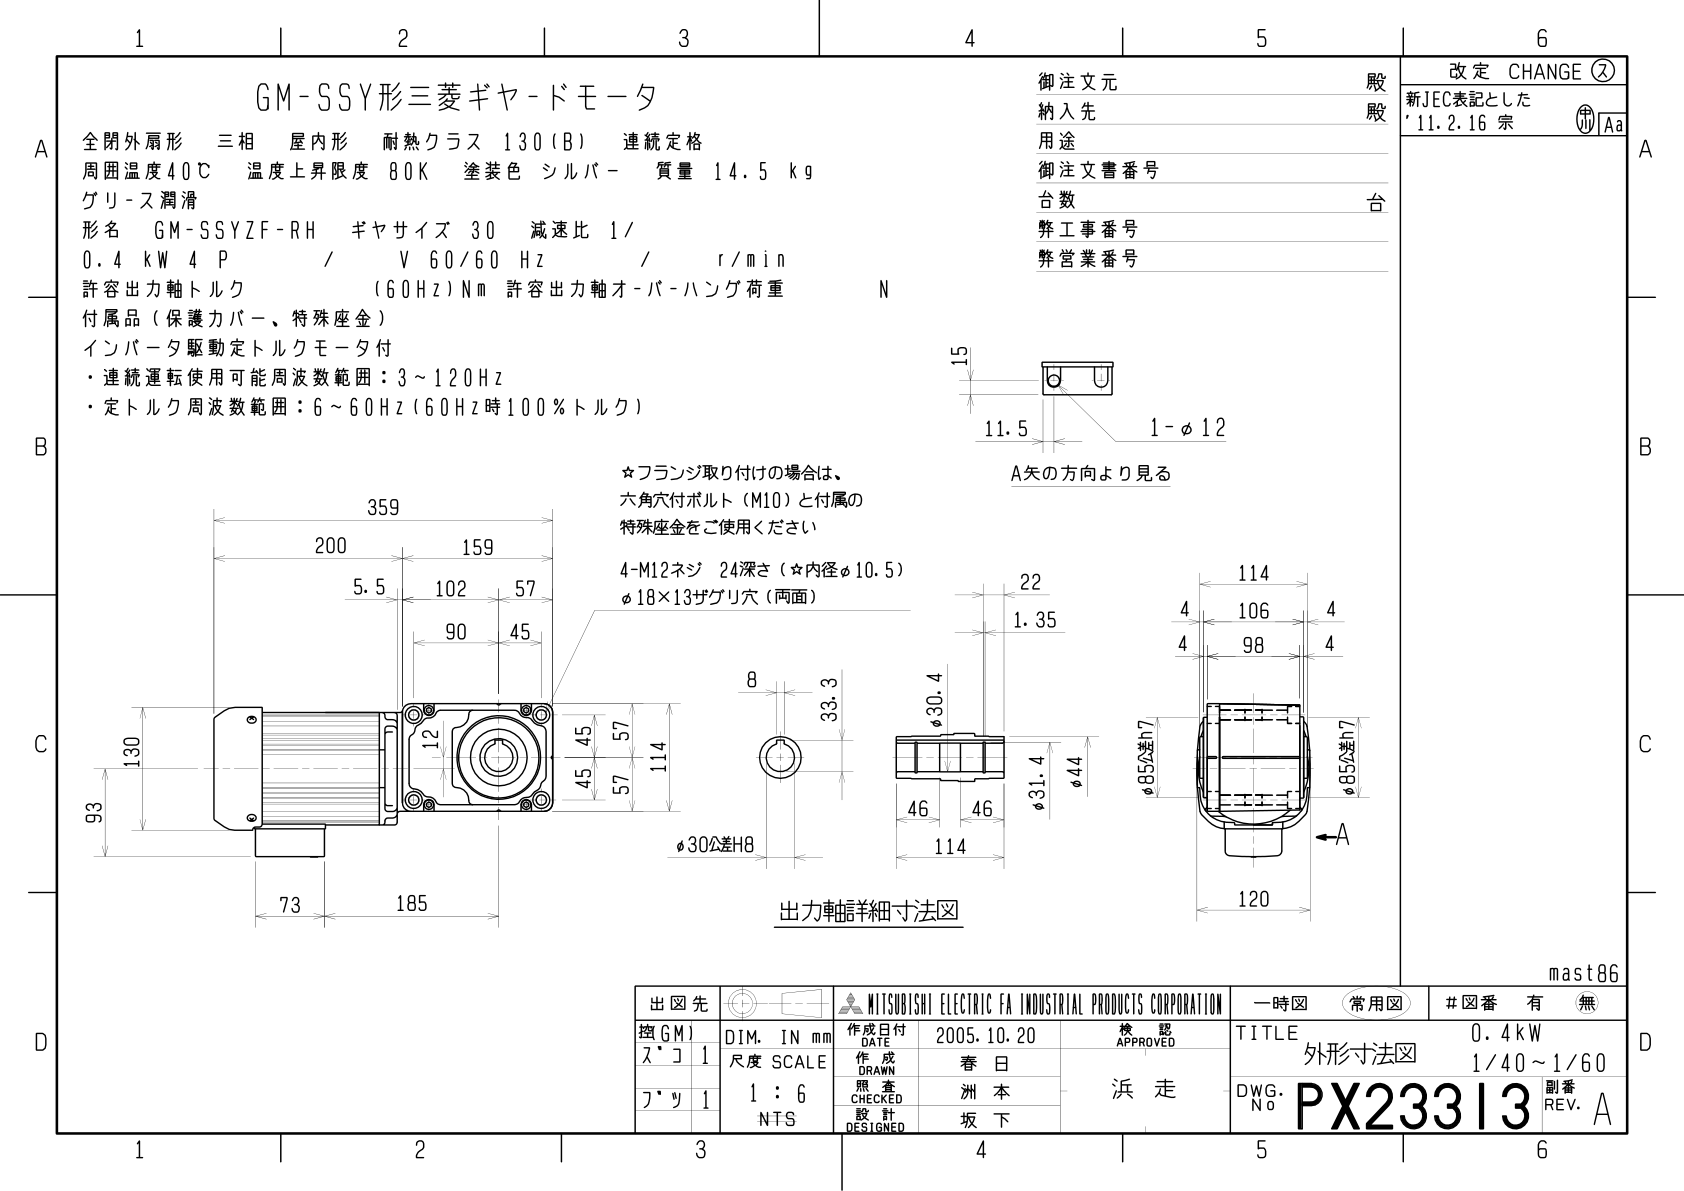GM_SSY_インバータ屋内_三相: (4, 13, 1684, 1191)
